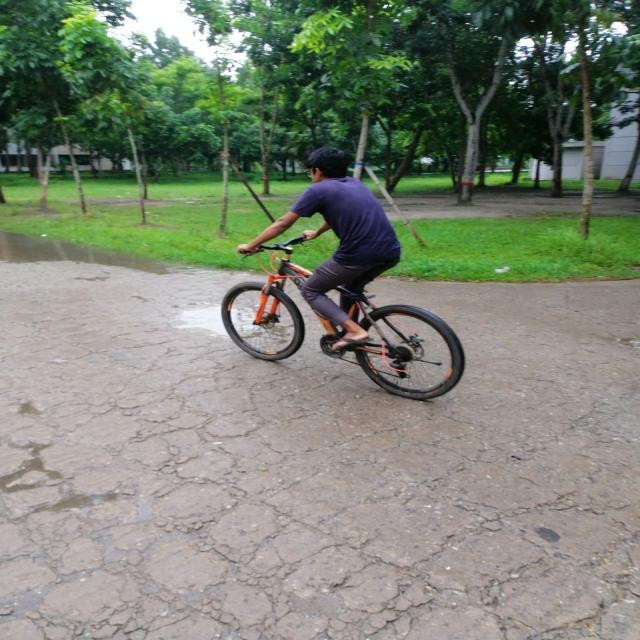Bicycle: (192, 228, 479, 420)
